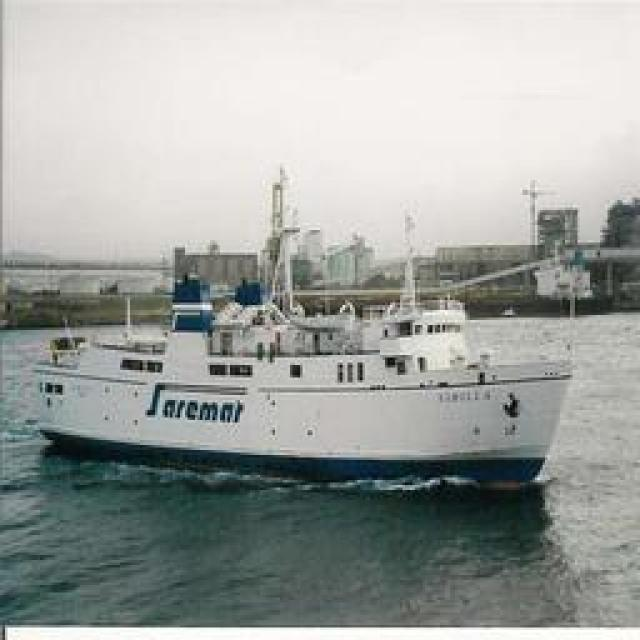CIV_Ship: (28, 185, 578, 490)
